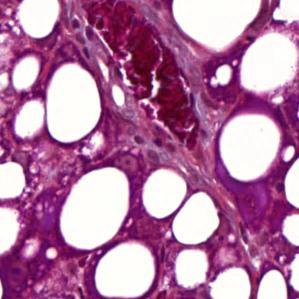steatosis: (45, 61, 102, 147), (144, 168, 191, 216)
